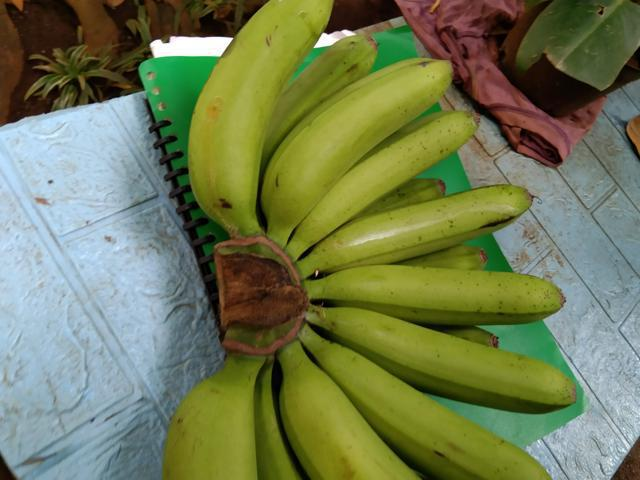freshunripe: (256, 46, 463, 235), (313, 337, 552, 479), (345, 287, 579, 417), (285, 97, 490, 242), (312, 255, 565, 317), (274, 365, 407, 479), (156, 351, 266, 479)
unripe: (174, 0, 329, 233), (309, 172, 539, 276)
